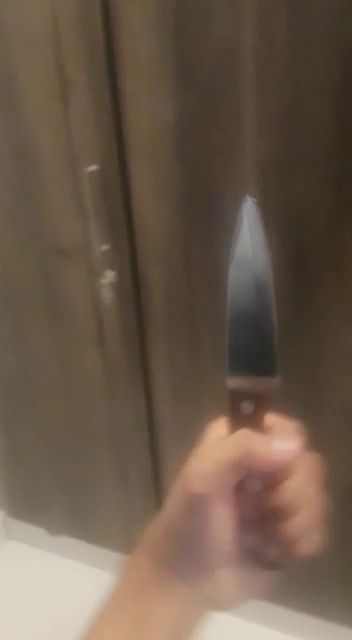knife: (178, 173, 307, 376)
